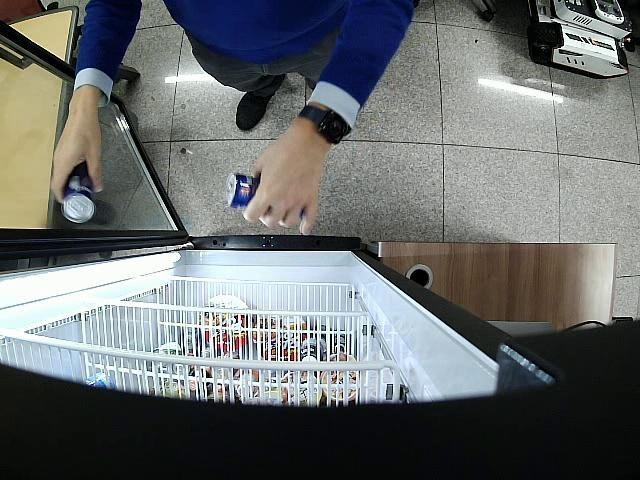16_hot6: (63, 162, 97, 225), (226, 172, 261, 208)
